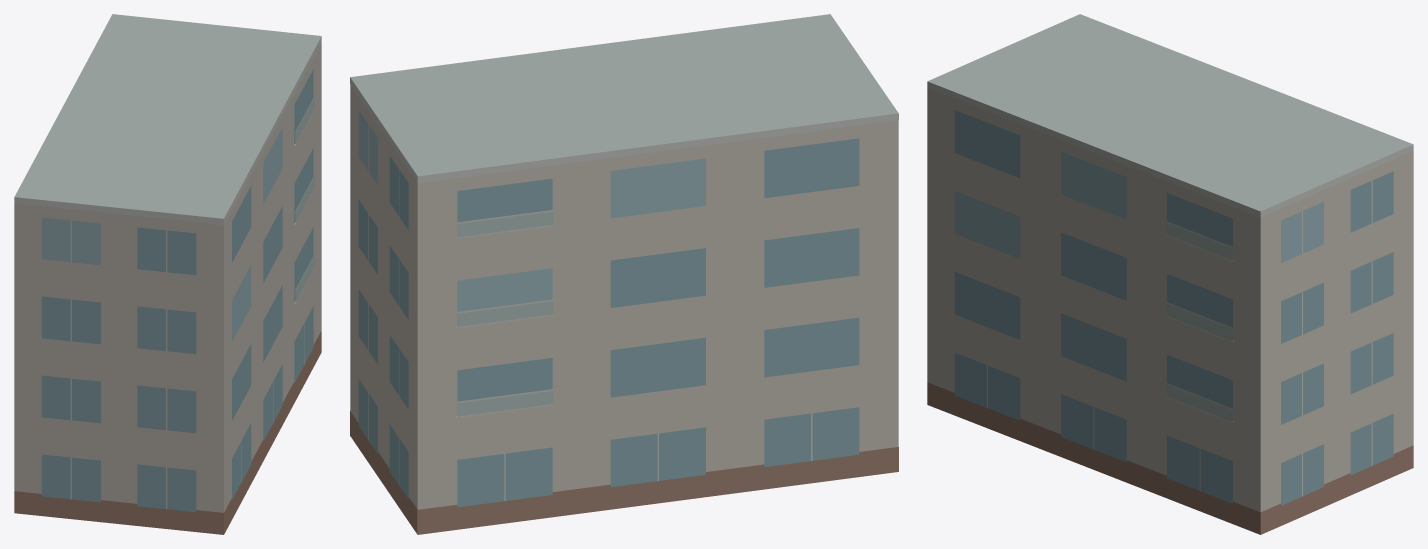
The model's file is survey-upis-32634688.glb.
3 views of the same model, side by side, from view 1: azimuth 30°, elevation 25°; view 2: azimuth 150°, elevation 25°; view 3: azimuth 270°, elevation 25° (orthographic). The views are drawn at different scales.
Visible parts, largest first — view 1: survey-upis-32634688.tmp; view 2: survey-upis-32634688.tmp; view 3: survey-upis-32634688.tmp.
Boxes of the visible parts, box(x1,y1,x2,y2) form: survey-upis-32634688.tmp: box(14, 14, 321, 534); survey-upis-32634688.tmp: box(350, 14, 898, 534); survey-upis-32634688.tmp: box(927, 14, 1413, 534).
Bounding box in the file's own units: 16.64 × 12.7 × 17.32.
